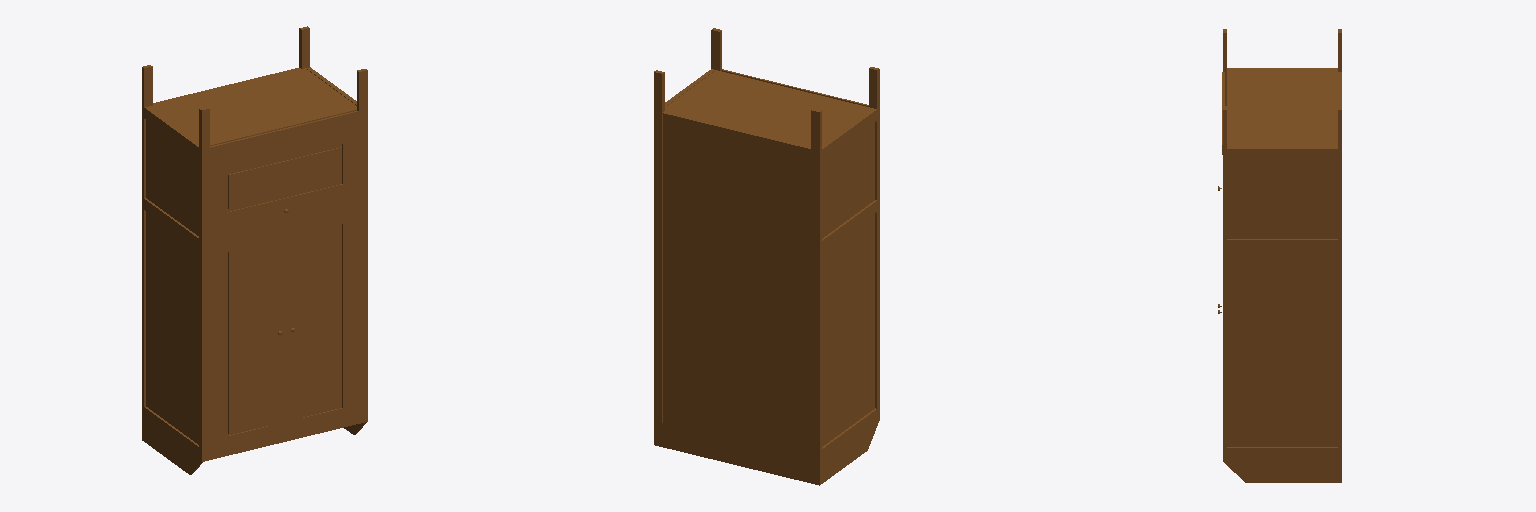
Rendered from StorageFurniture_SundvikWardrobeBrown.obj.
3 views of the same model, side by side, from view 1: azimuth 30°, elevation 25°; view 2: azimuth 150°, elevation 25°; view 3: azimuth 270°, elevation 25° (orthographic).
Parts seen in each view (by area): view 1: obj_0; view 2: obj_0; view 3: obj_0.
Part boxes in pixels (x1,y1,x2,y2): obj_0: (142, 26, 367, 474); obj_0: (654, 28, 879, 485); obj_0: (1218, 29, 1341, 482).
Size of the model in its own units: 80 by 172 by 52.